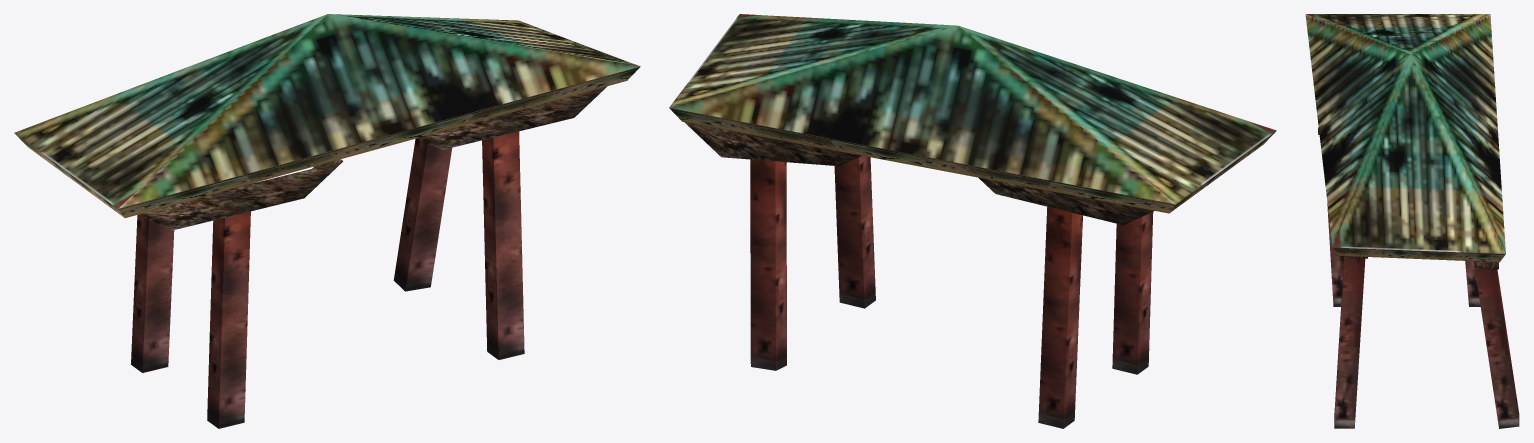
The model's file is USA - Prop - Ancient Wooden Gate 01 - Damaged - PAWdGate_D.glb.
3 views of the same model, side by side, from view 1: azimuth 30°, elevation 25°; view 2: azimuth 150°, elevation 25°; view 3: azimuth 270°, elevation 25° (orthographic). The views are drawn at different scales.
Parts seen in each view (by area): view 1: PAWDGATE_D; view 2: PAWDGATE_D; view 3: PAWDGATE_D.
Part boxes in pixels (x1,y1,x2,y2): PAWDGATE_D: (14, 14, 640, 428); PAWDGATE_D: (669, 14, 1276, 428); PAWDGATE_D: (1305, 14, 1519, 428).
Size of the model in its own units: 45.91 by 28.28 by 17.78.
1 material, 1 textured.
